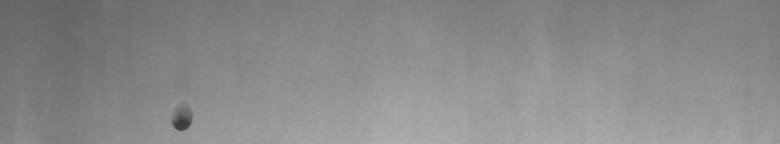fi: (168, 97, 196, 136)
